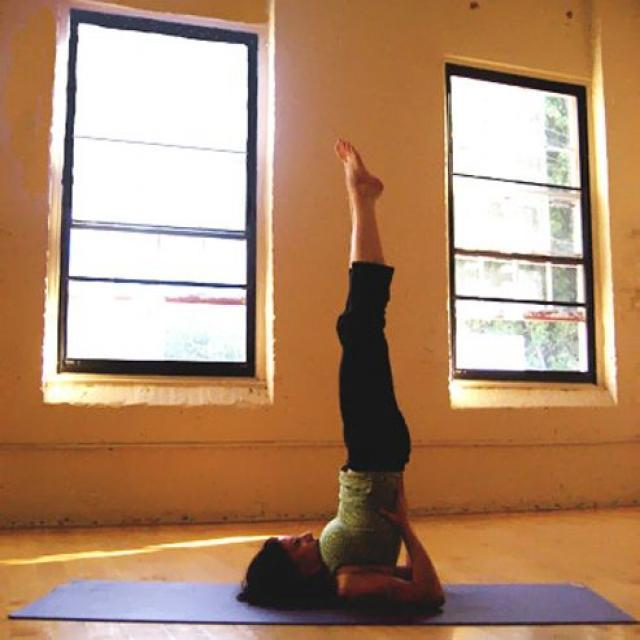yoga-pose shoulderstand: (252, 130, 454, 618)
